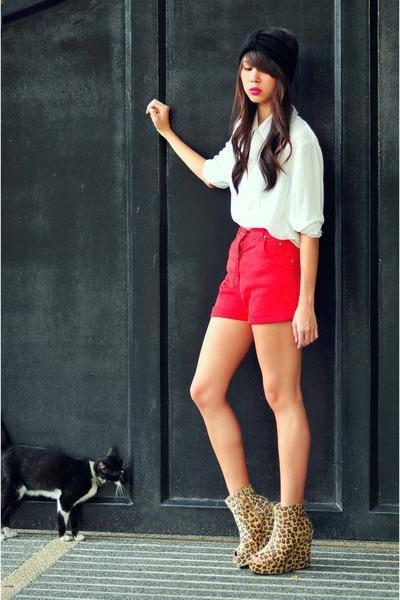short sleeve shirt: (192, 102, 335, 239)
skirt: (203, 223, 316, 328)
